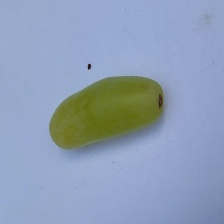grapes: (29, 24, 185, 168)
